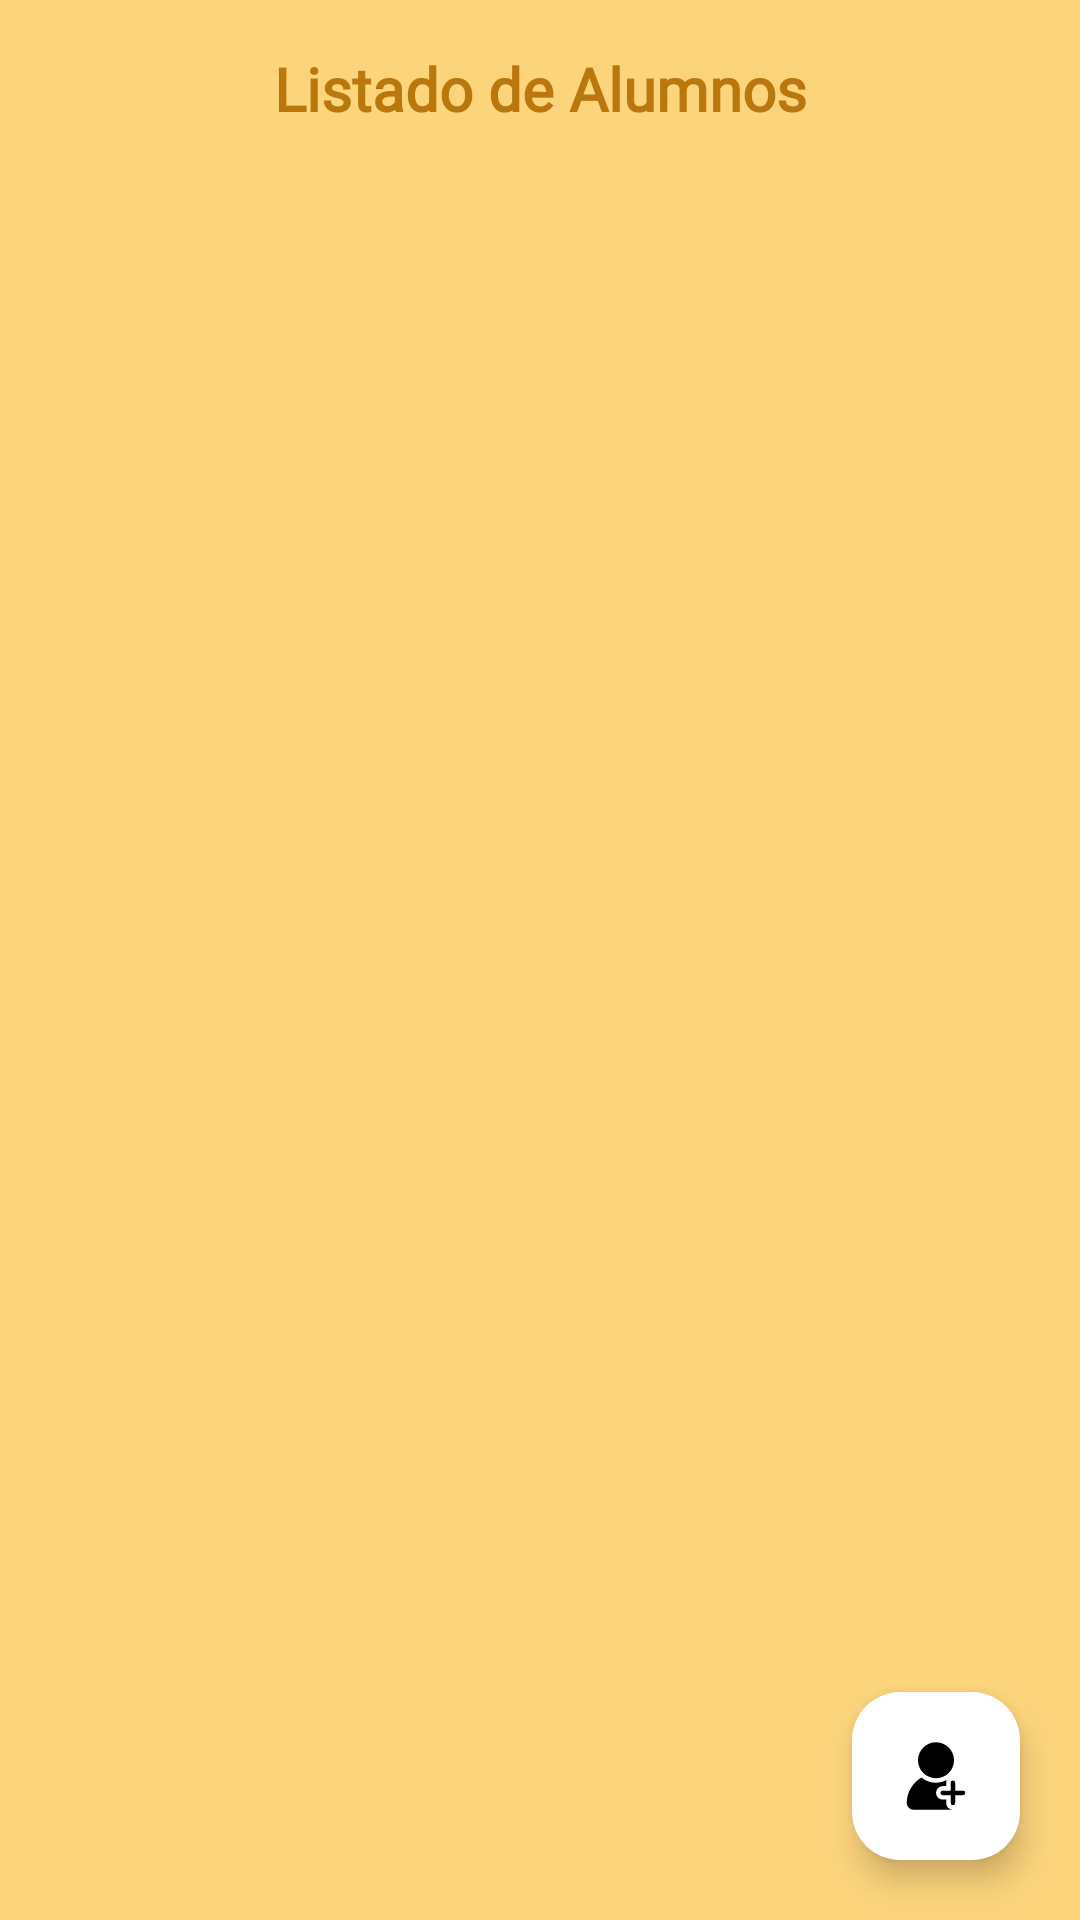

Point at icon controls on the screen. Image size 1080w x 1920h, points as (x,y).
Agregar Alumno: (936,1776)
